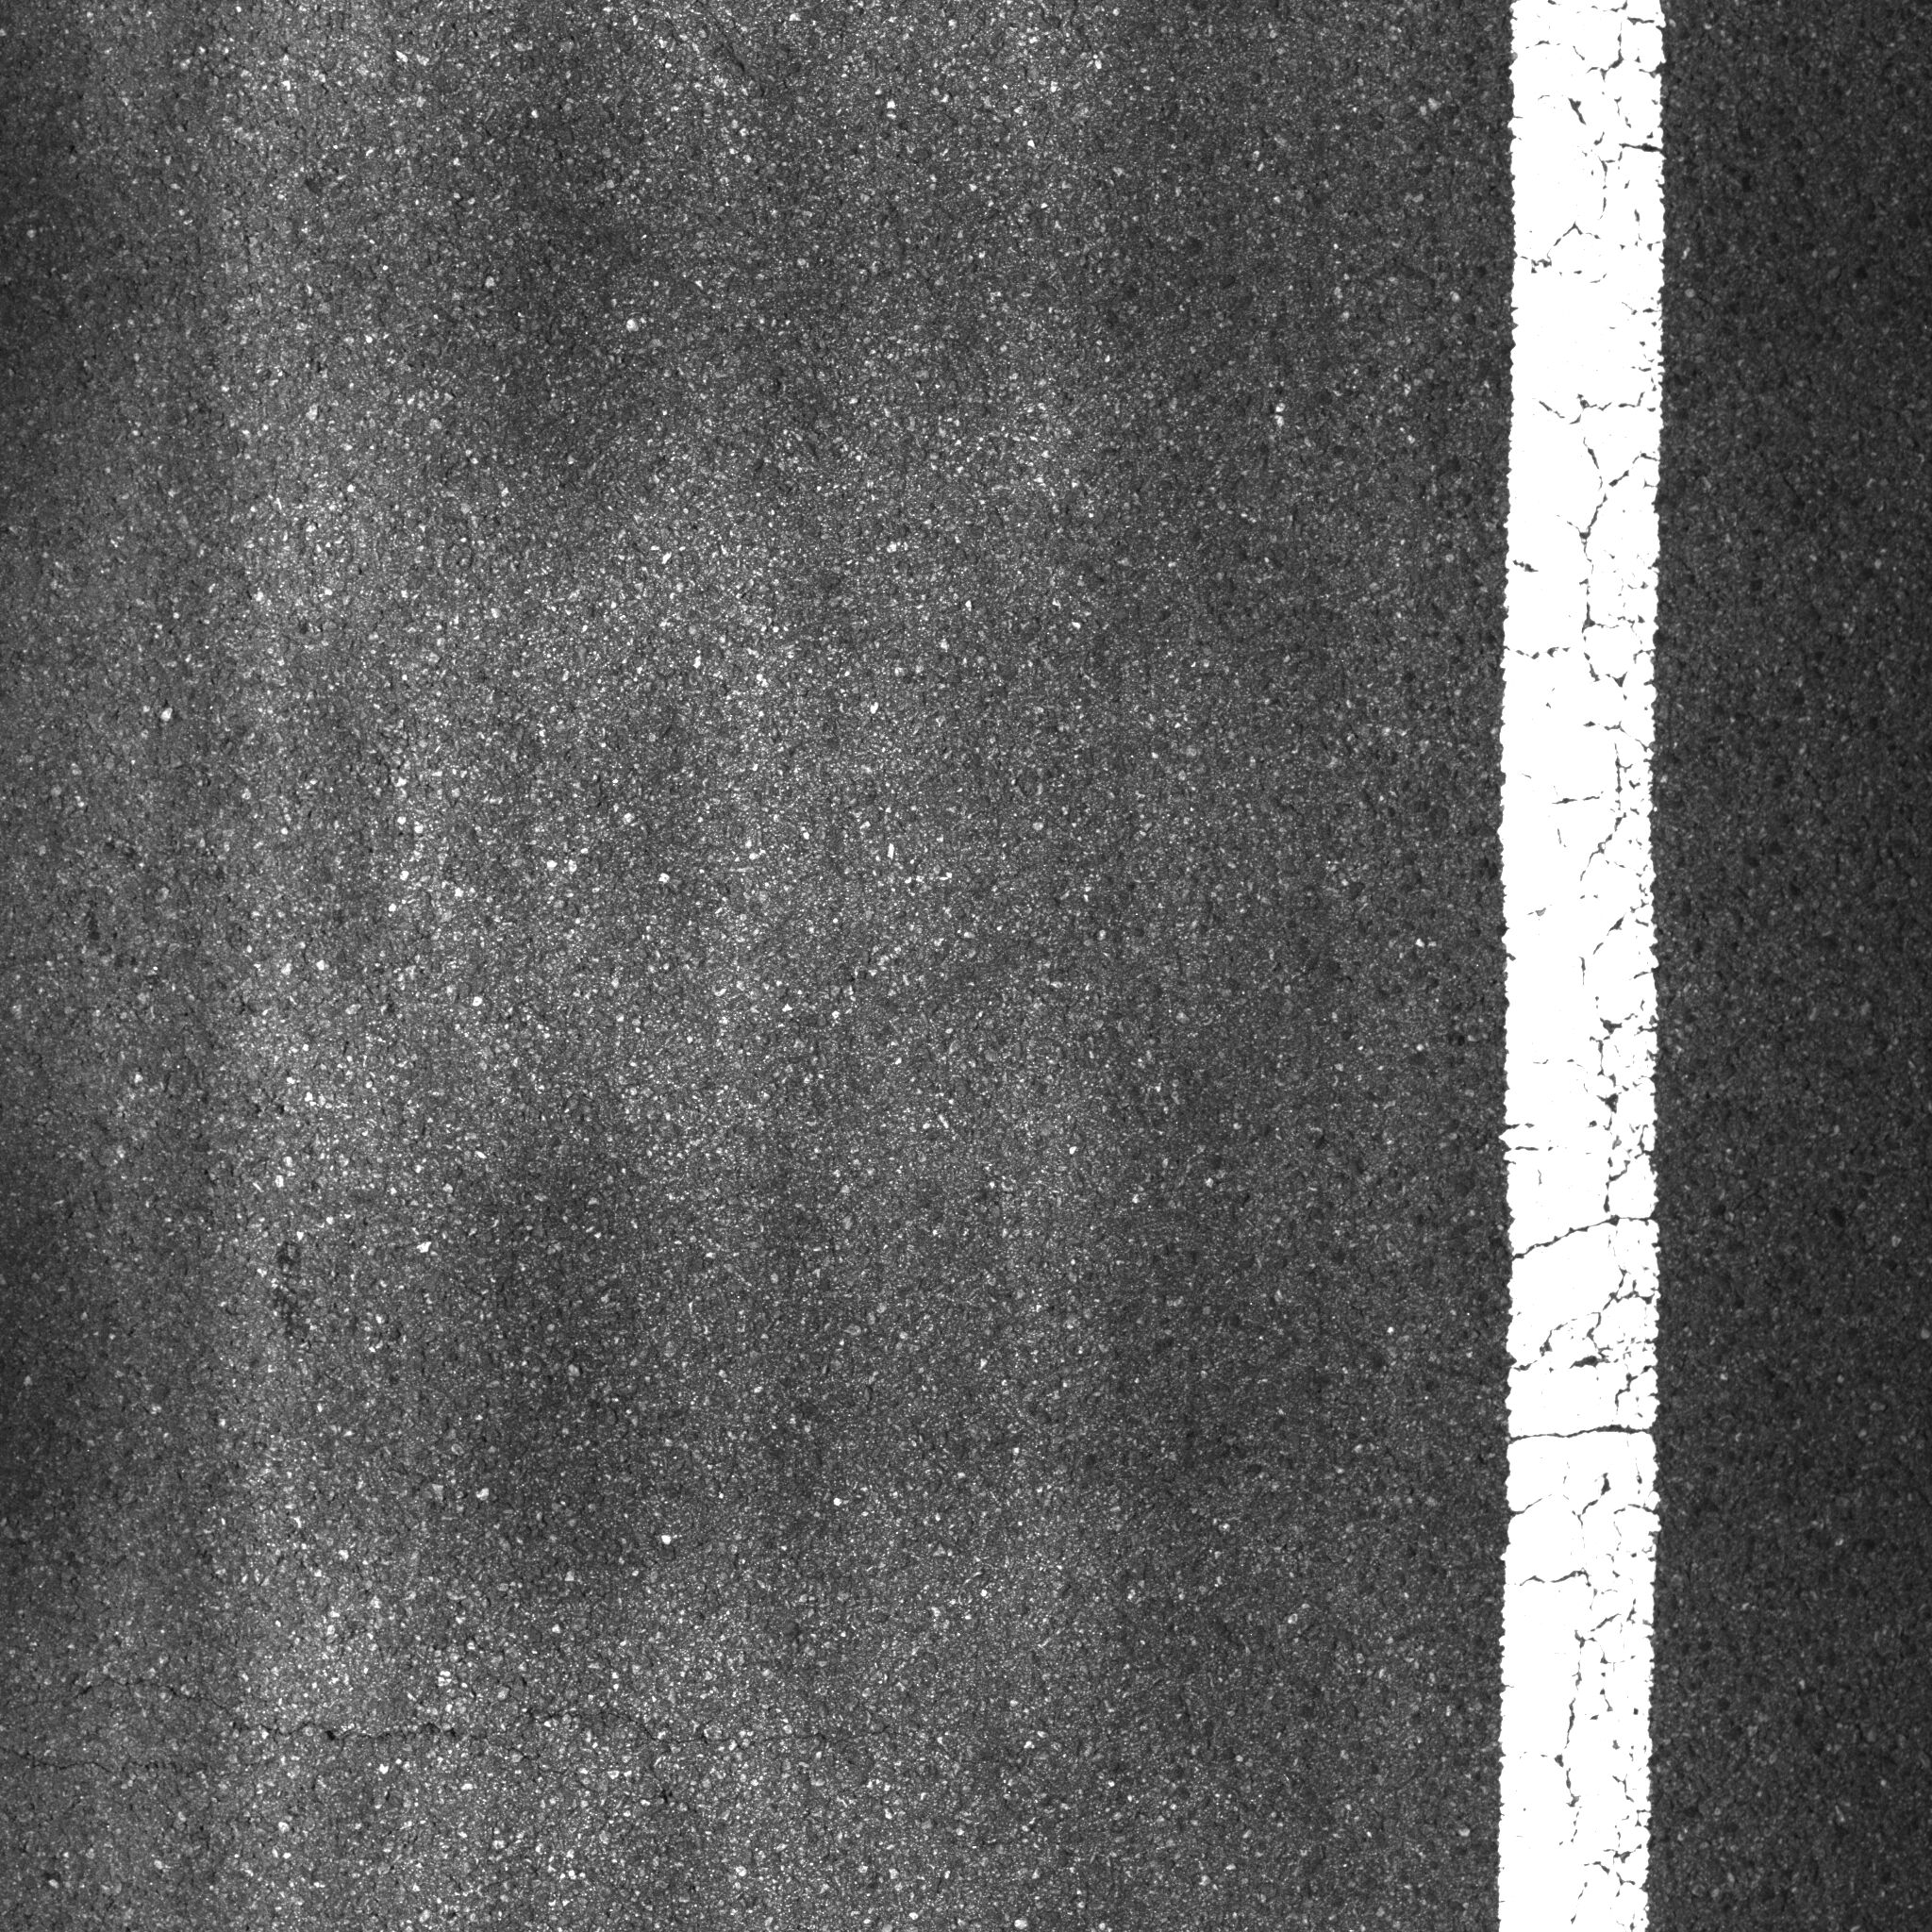transverse: (2, 1644, 950, 1829)
